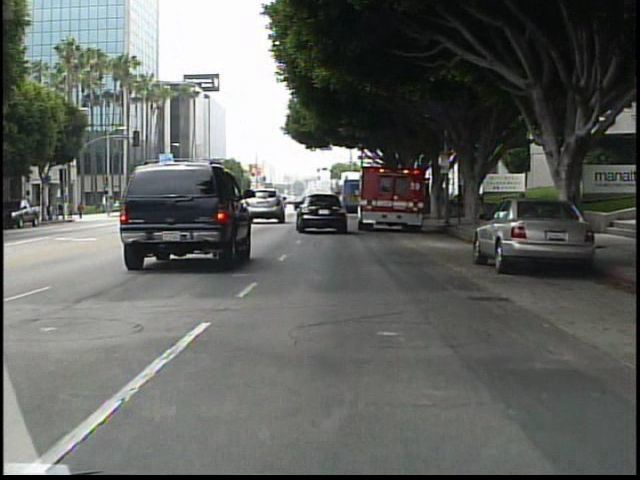person: (455, 187, 468, 222), (75, 198, 88, 222), (65, 198, 77, 222)
